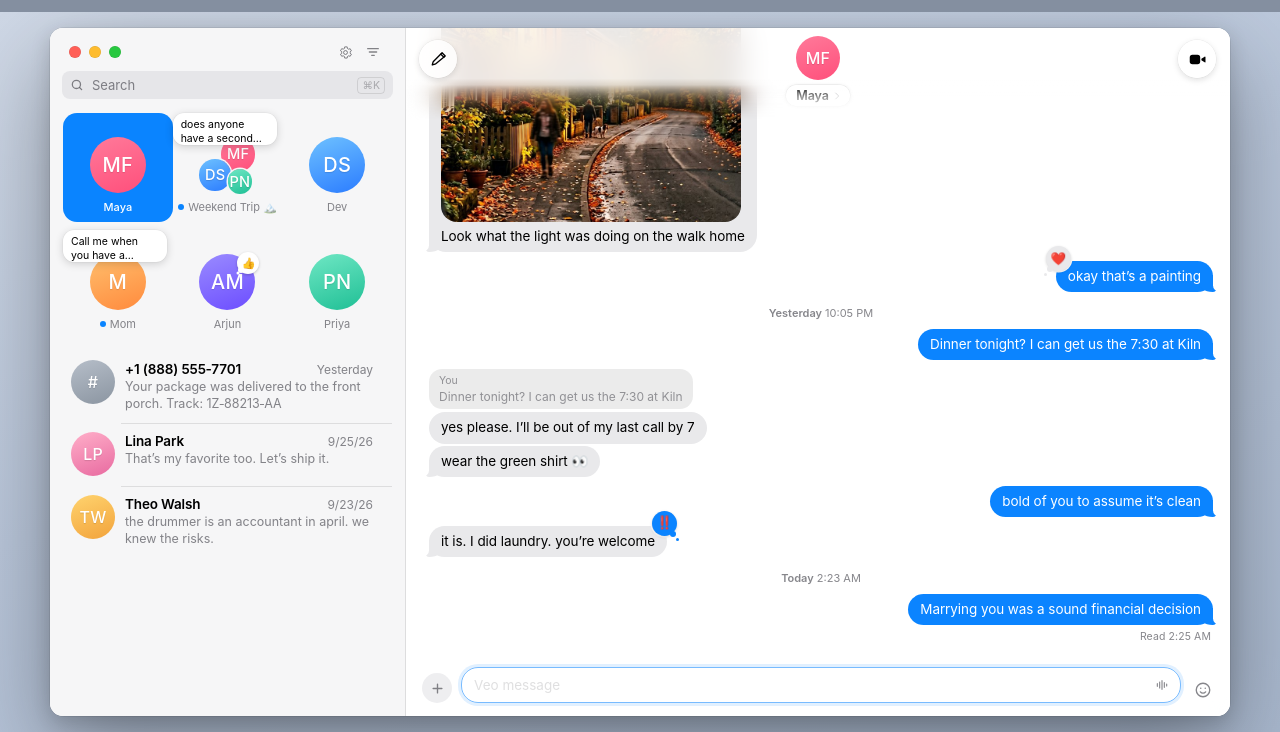
Test case: Veo app › persists a sent message across a remount
(page scrolled)
Expected: the field with placeholder "Search" is shown, [90, 76, 351, 94]
Type "survive the reload" into the text box labelled "Veo message" at (810, 685), box [474, 673, 1145, 698]
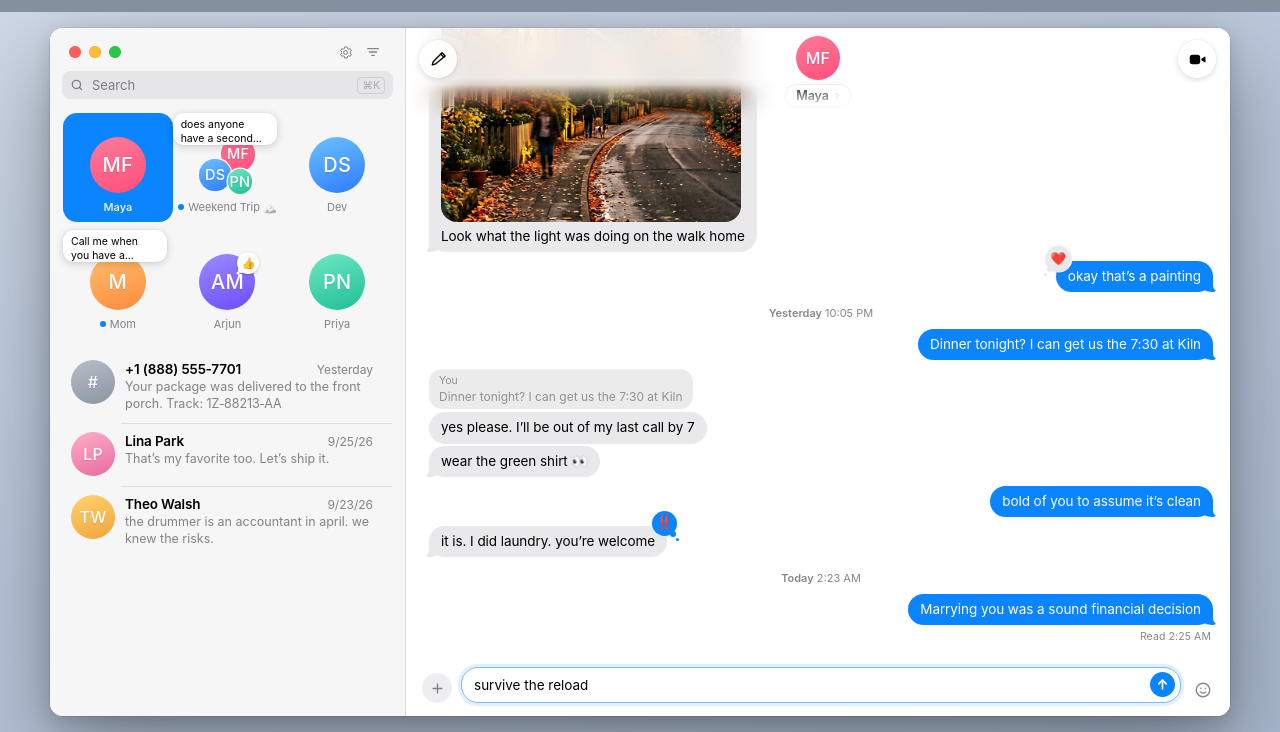
Press Enter
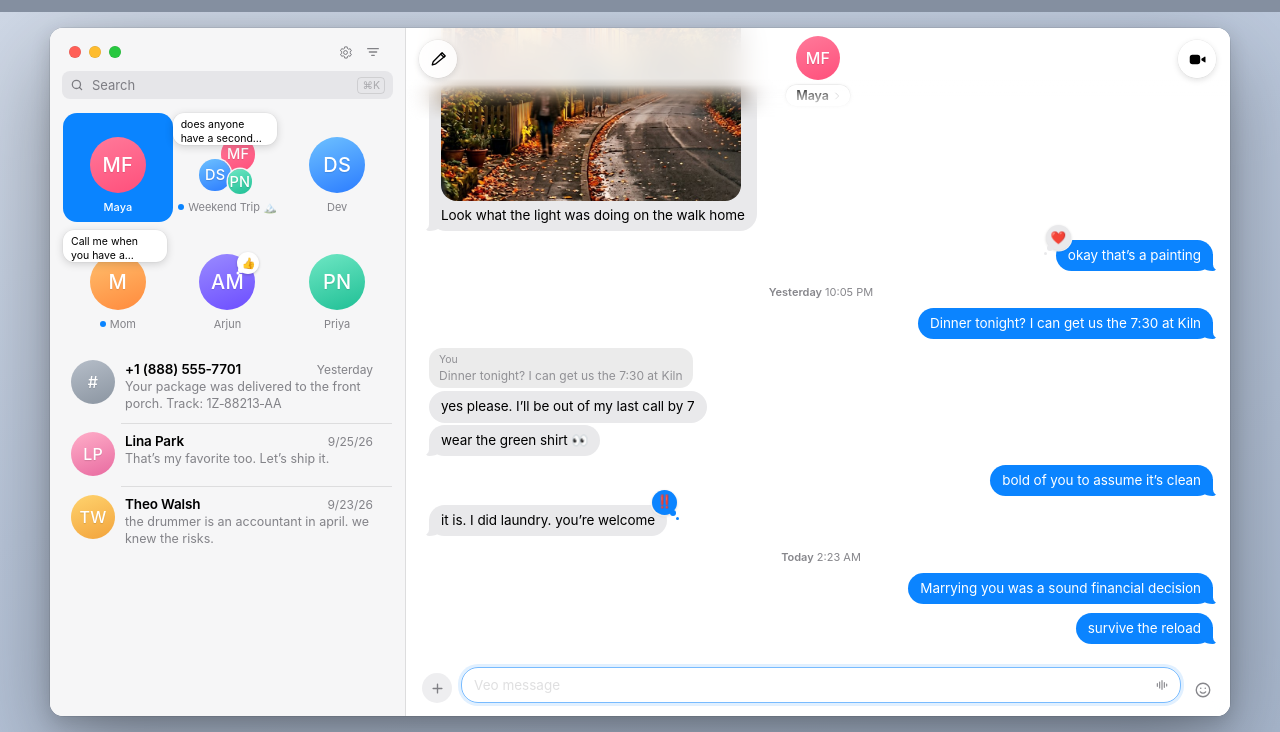
Expected: the text "survive the reload" is shown, [1088, 620, 1201, 636]
